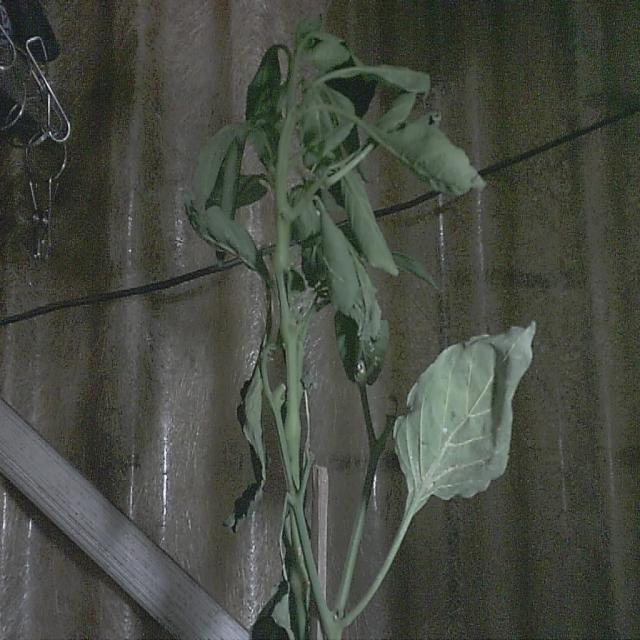Leaf: (392, 318, 536, 500), (377, 121, 486, 196)
